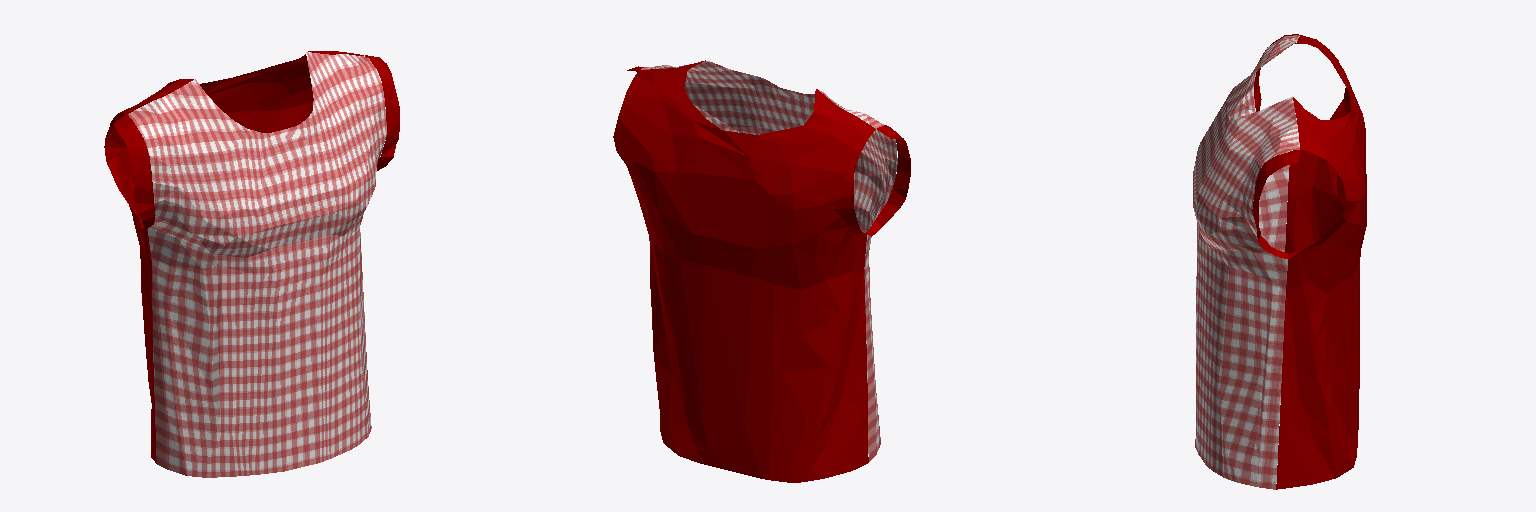
The picture shows the model from 3 angles: view 1: azimuth 30°, elevation 25°; view 2: azimuth 150°, elevation 25°; view 3: azimuth 270°, elevation 25°; orthographic projection.
Visible parts, largest first — view 1: T_shirt; view 2: T_shirt; view 3: T_shirt.
Boxes of the visible parts, x1,y1,x2,y2 form: T_shirt: [104, 51, 399, 477]; T_shirt: [613, 60, 910, 482]; T_shirt: [1193, 34, 1366, 489].
Bounding box in the file's own units: 0.2935 × 0.3892 × 0.1639.
Materials: 2 (1 with a texture image).